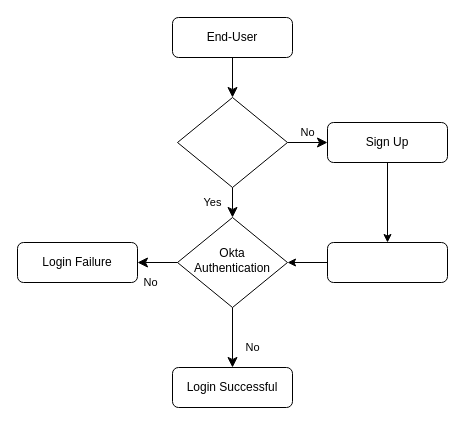
Some shapes in this 465 by 425 pixel diagram are drawn without their labels. Each missing label, with the centre of its shape:
"Receive Okta Credentials" goes at point (387, 262).
"Registered" goes at point (232, 142).
